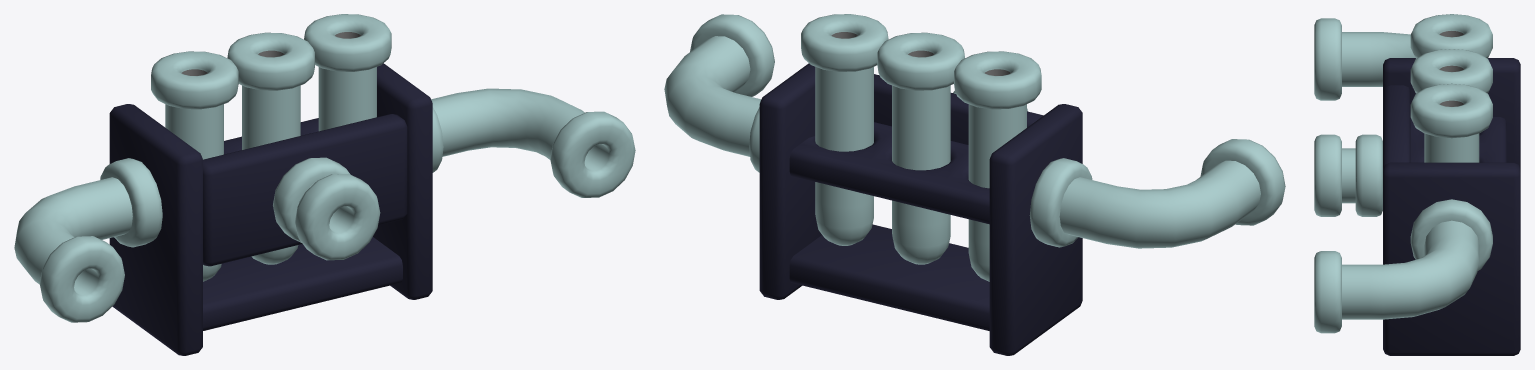
Rendered from LastLuna_Model_Station_Extractor.fbx.
3 views of the same model, side by side, from view 1: azimuth 30°, elevation 25°; view 2: azimuth 150°, elevation 25°; view 3: azimuth 270°, elevation 25° (orthographic). The views are drawn at different scales.
Visible parts, largest first — view 1: Test_Tube_Stand001, ExtractPipe001, Test_Tube002, Test_Tube003, Test_Tube001; view 2: Test_Tube_Stand001, ExtractPipe001, Test_Tube002, Test_Tube003, Test_Tube001; view 3: Test_Tube_Stand001, ExtractPipe001, Test_Tube003, Test_Tube001, Test_Tube002.
Boxes of the visible parts, x1,y1,x2,y2 form: Test_Tube_Stand001: (109,63,432,355); ExtractPipe001: (14,88,635,322); Test_Tube002: (227,32,314,264); Test_Tube003: (304,14,391,131); Test_Tube001: (151,51,238,281); Test_Tube_Stand001: (759,63,1082,355); ExtractPipe001: (664,14,1285,248); Test_Tube002: (877,32,964,264); Test_Tube003: (801,14,888,245); Test_Tube001: (954,51,1041,281); Test_Tube_Stand001: (1383,58,1520,355); ExtractPipe001: (1314,18,1492,333); Test_Tube003: (1410,83,1492,162); Test_Tube001: (1410,14,1492,58); Test_Tube002: (1410,49,1492,93).
Bounding box in the file's own units: 230 × 95 × 75.
